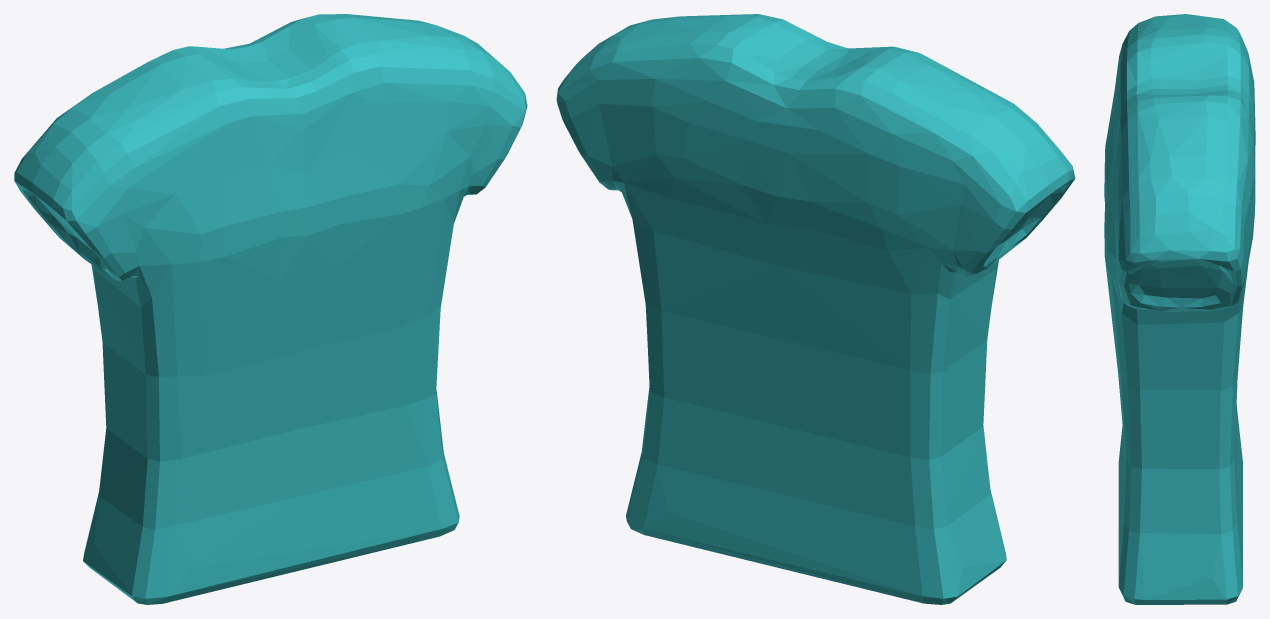
Rendered from Avatar_body_v2.fbx.
The picture shows the model from 3 angles, left to right: view 1: azimuth 30°, elevation 25°; view 2: azimuth 150°, elevation 25°; view 3: azimuth 270°, elevation 25°; orthographic projection. The views are drawn at different scales.
Parts seen in each view (by area): view 1: T-Shirt_volume_2.003_reduced; view 2: T-Shirt_volume_2.003_reduced; view 3: T-Shirt_volume_2.003_reduced.
Boxes of the visible parts, x1,y1,x2,y2 form: T-Shirt_volume_2.003_reduced: (14, 14, 527, 604); T-Shirt_volume_2.003_reduced: (556, 14, 1075, 604); T-Shirt_volume_2.003_reduced: (1104, 14, 1255, 604).
Size of the model in its own units: 48.18 by 49.05 by 14.34.
